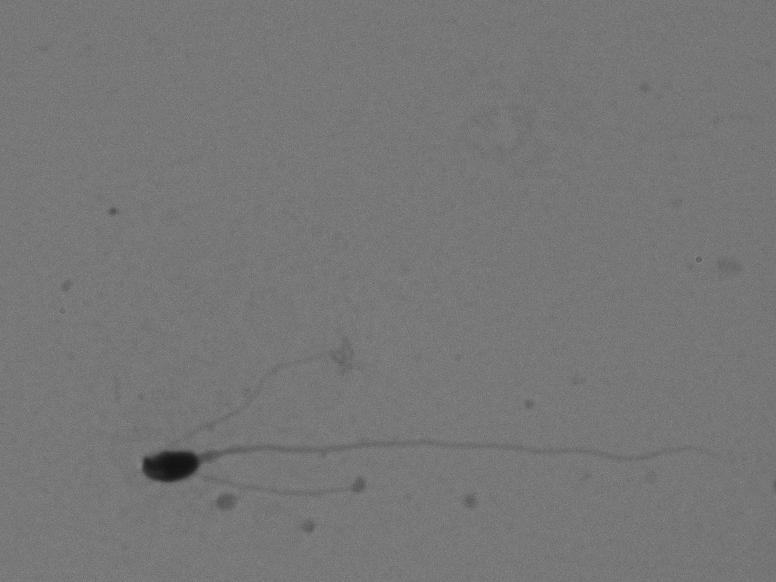Abnormal: (113, 391, 747, 505)
